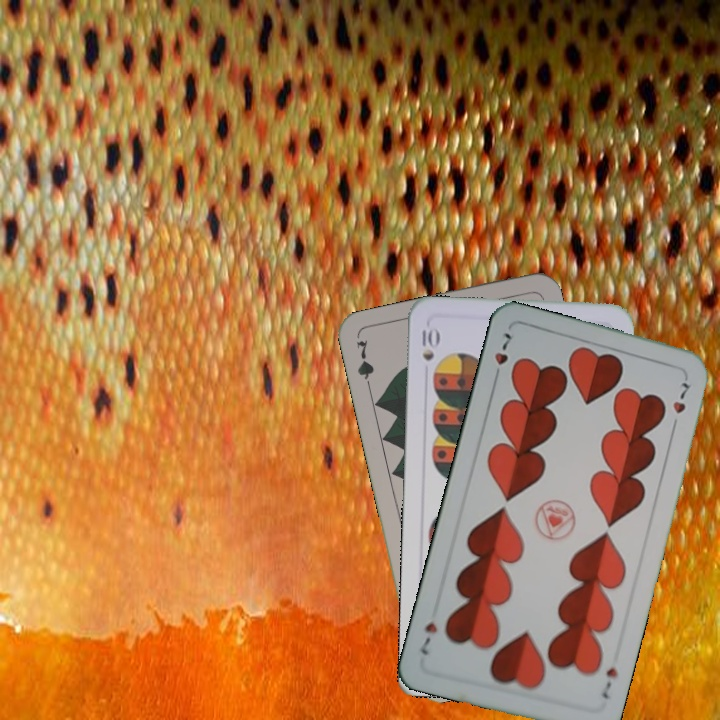G7: (352, 336, 377, 395)
H7: (490, 328, 514, 384), (596, 663, 620, 703)
S10: (417, 324, 441, 363)
